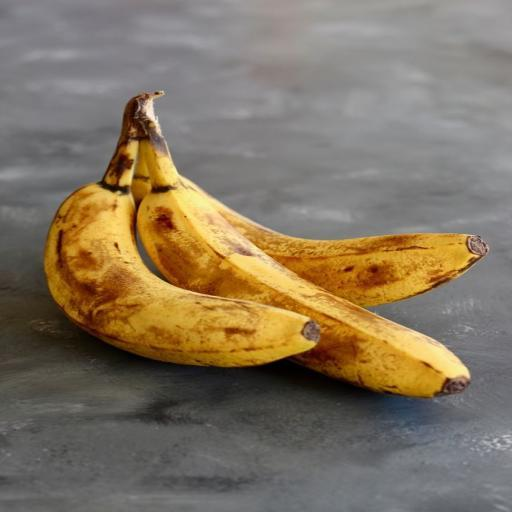banana: (138, 117, 469, 397), (45, 93, 319, 366), (182, 177, 488, 306)
